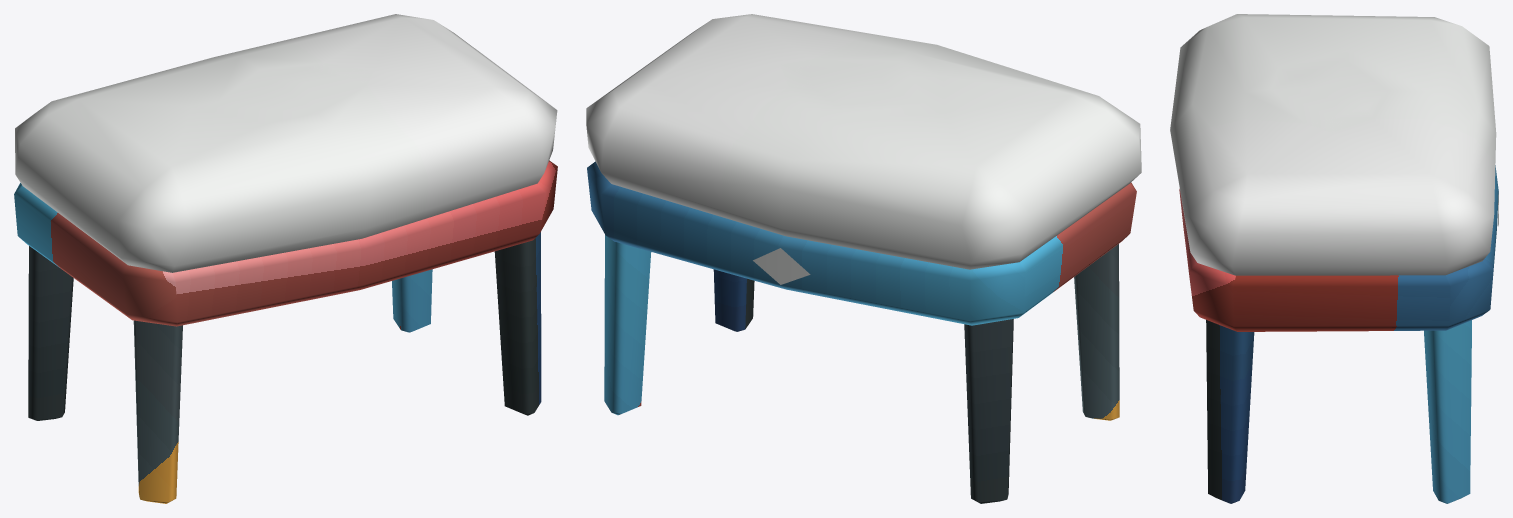
File: P_AP23Bench.glb
3 views of the same model, side by side, from view 1: azimuth 30°, elevation 25°; view 2: azimuth 150°, elevation 25°; view 3: azimuth 270°, elevation 25° (orthographic). The views are drawn at different scales.
Parts seen in each view (by area): view 1: P_AP23Bench; view 2: P_AP23Bench; view 3: P_AP23Bench.
Part boxes in pixels (x1,y1,x2,y2): P_AP23Bench: (14,14,557,503); P_AP23Bench: (586,14,1141,503); P_AP23Bench: (1170,14,1498,503).
Size of the model in its own units: 0.5661 by 0.3996 by 0.3698.
Materials: 1 (1 with a texture image).
